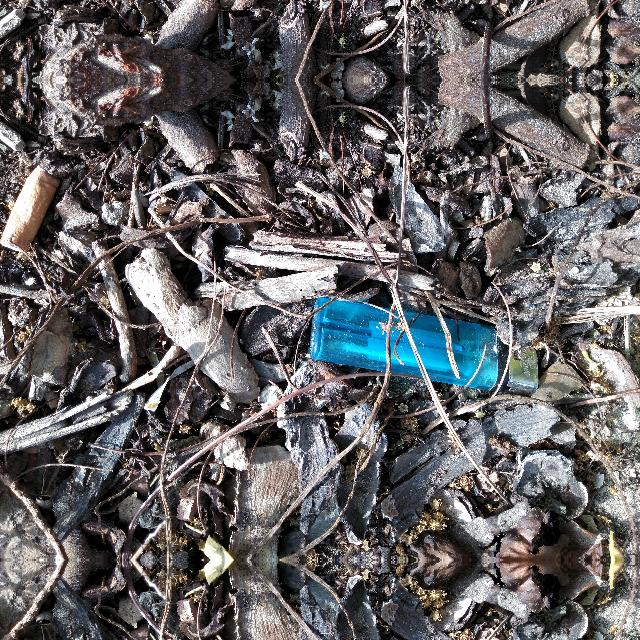Plastic: (306, 290, 548, 402)
